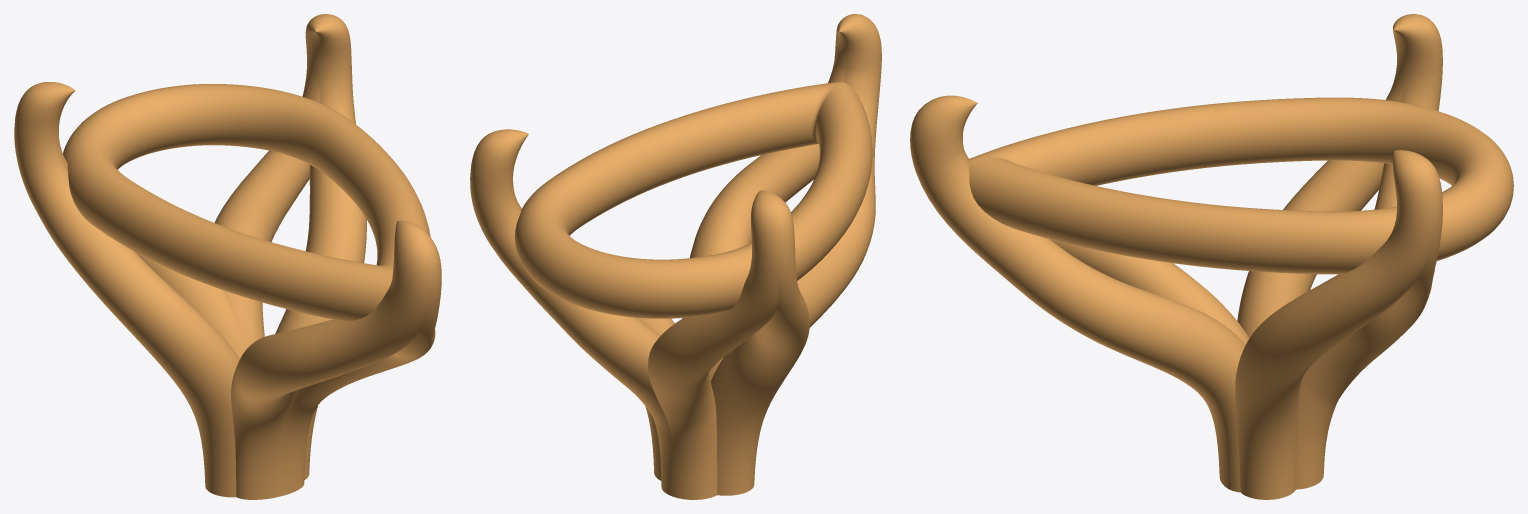
Rendered from PEAR.glb.
3 renders of one model, left to right at view 1: azimuth 30°, elevation 25°; view 2: azimuth 150°, elevation 25°; view 3: azimuth 270°, elevation 25°, orthographic. The views are drawn at different scales.
Parts seen in each view (by area): view 1: HD-Tulip-Pear-103dm; view 2: HD-Tulip-Pear-103dm; view 3: HD-Tulip-Pear-103dm.
Part boxes in pixels (x1,y1,x2,y2): HD-Tulip-Pear-103dm: (14, 14, 441, 499); HD-Tulip-Pear-103dm: (470, 14, 881, 499); HD-Tulip-Pear-103dm: (910, 14, 1513, 499).
Bounding box in the file's own units: 5.32 × 5.8 × 8.14.
